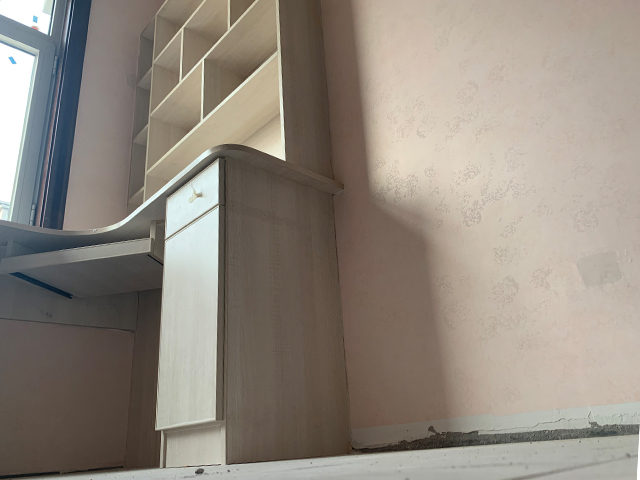table: (1, 147, 353, 478)
